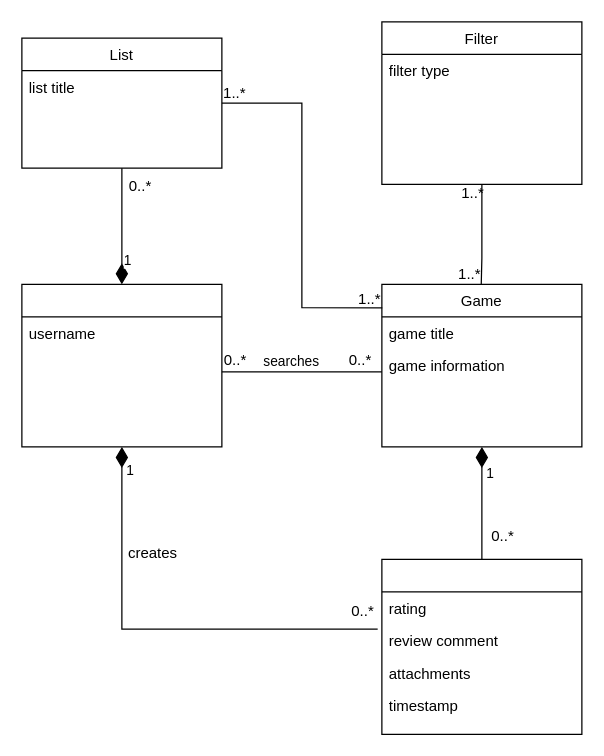
Some shapes in this 604 by 756 pixel diagram are drawn without their labels. The box of each missing label's shape, as (x1, y1, x2, y2) in pixels:
Gamer: (21, 283, 222, 447)
GameReview: (381, 558, 582, 734)
